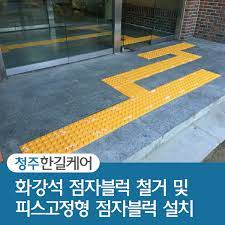guide_blocks: (67, 101, 136, 140), (146, 71, 220, 96), (140, 43, 201, 62), (5, 36, 73, 50), (106, 76, 149, 97), (80, 31, 112, 39), (122, 36, 157, 42)
